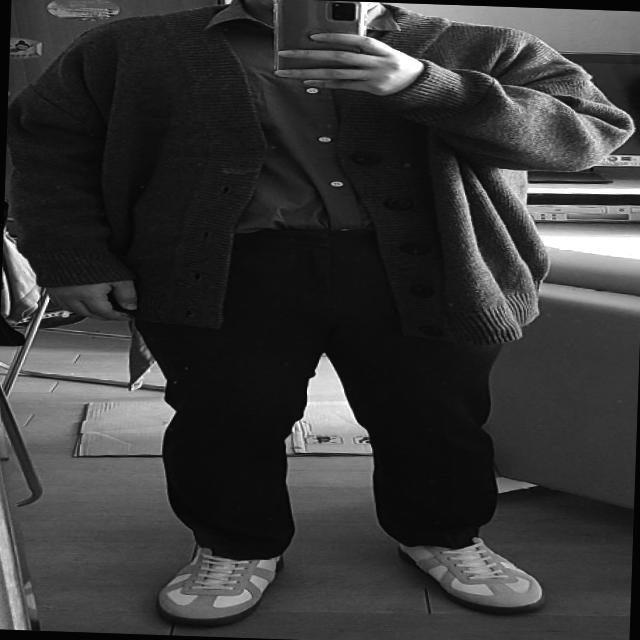cardigan: (0, 0, 634, 341)
slacks: (108, 213, 528, 564)
